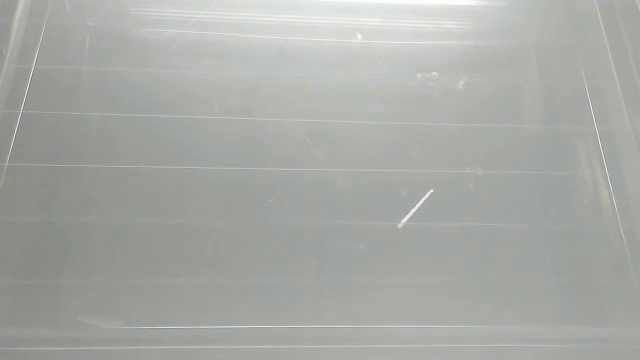alpha: (395, 187, 438, 233)
